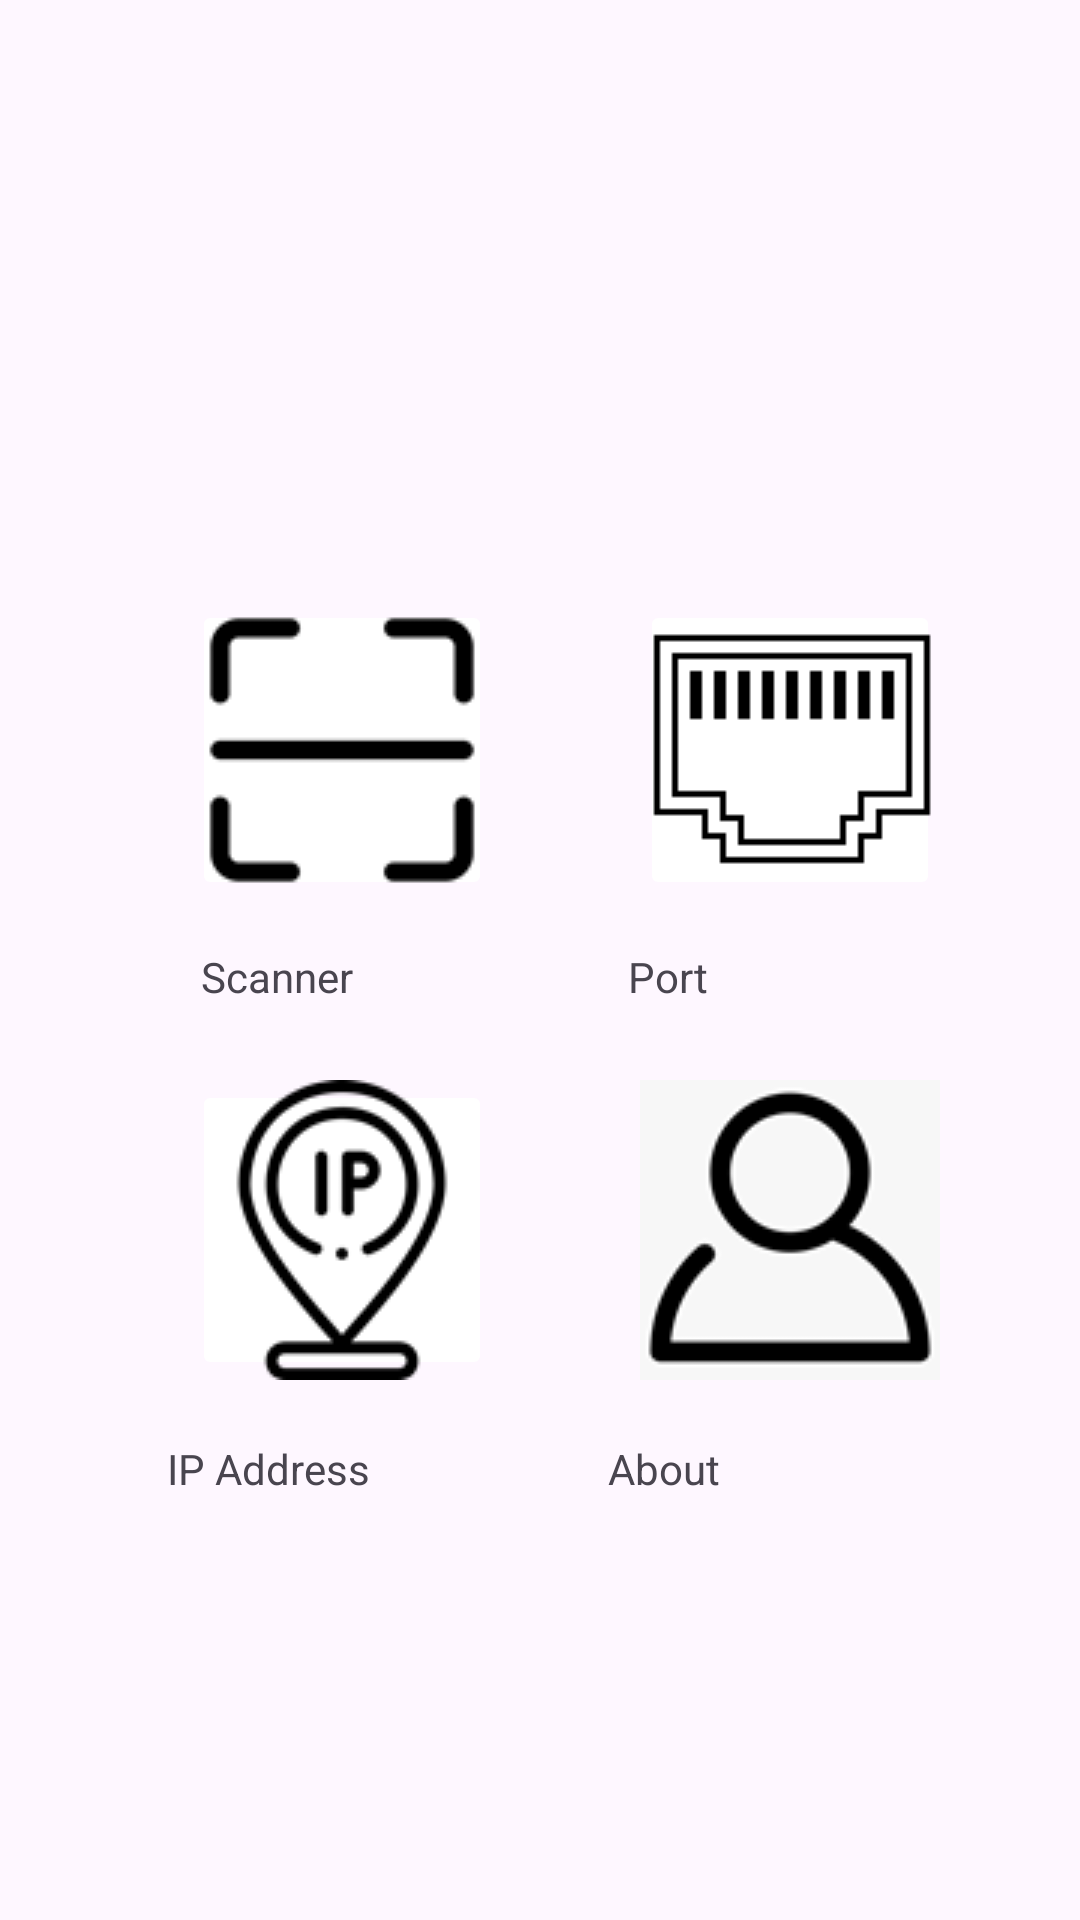

Icon bounding boxes for this 1080 × 1920 phone screenshot, format {"x1": x1, "y1": y1, "x2": x2, "y2": y2}:
userprofile: {"x1": 648, "y1": 1091, "x2": 932, "y2": 1364}
